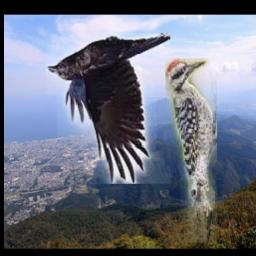Crow: (47, 34, 171, 185)
Woodpecker: (165, 59, 217, 243)
